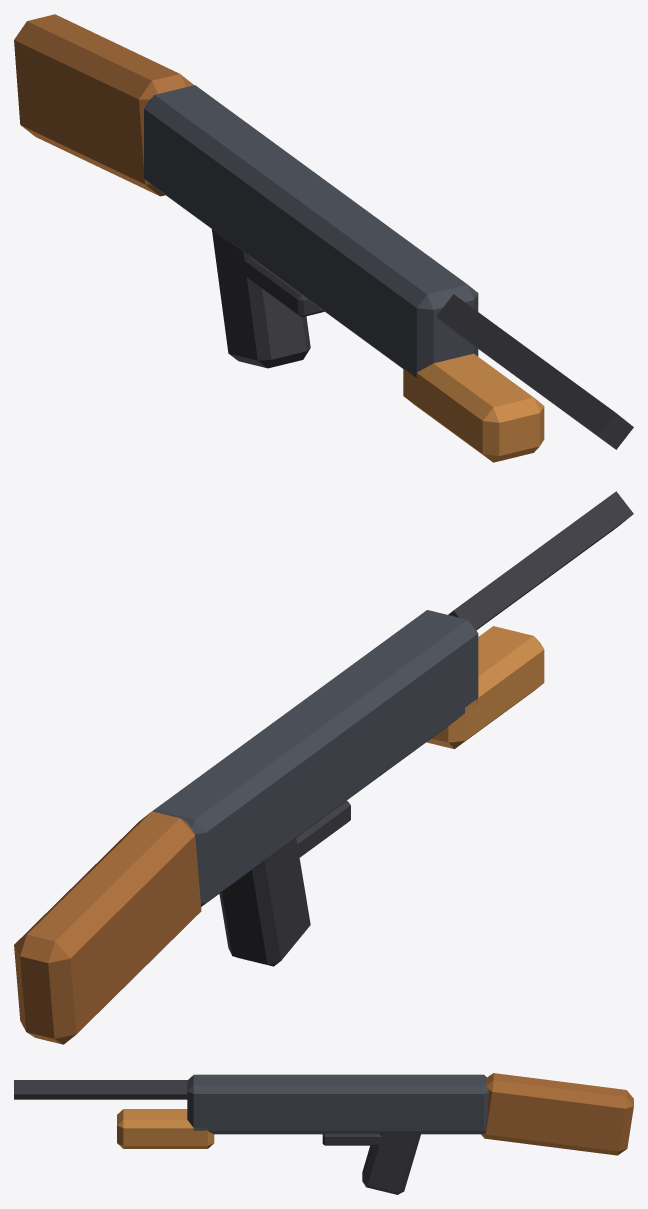
File: Shotgun.fbx
3 renders of one model, top to bottom at view 1: azimuth 30°, elevation 25°; view 2: azimuth 150°, elevation 25°; view 3: azimuth 270°, elevation 25°, orthographic. The views are drawn at different scales.
Visible parts, largest first — view 1: Shotgun; view 2: Shotgun; view 3: Shotgun.
Part boxes in pixels (x1=…): Shotgun: x1=14, y1=14, x2=633, y2=462; Shotgun: x1=14, y1=491, x2=633, y2=1044; Shotgun: x1=14, y1=1073, x2=633, y2=1194.
Size of the model in its own units: 0.35 by 1.16 by 5.72.
1 material, 1 textured.
